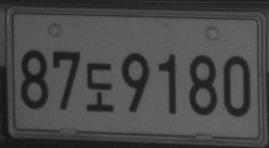0: (222, 55, 251, 116)
1: (156, 54, 185, 115)
7: (52, 50, 80, 111)
8: (187, 53, 218, 115), (20, 49, 49, 109)
9: (121, 52, 150, 112)
도: (86, 61, 114, 113)
